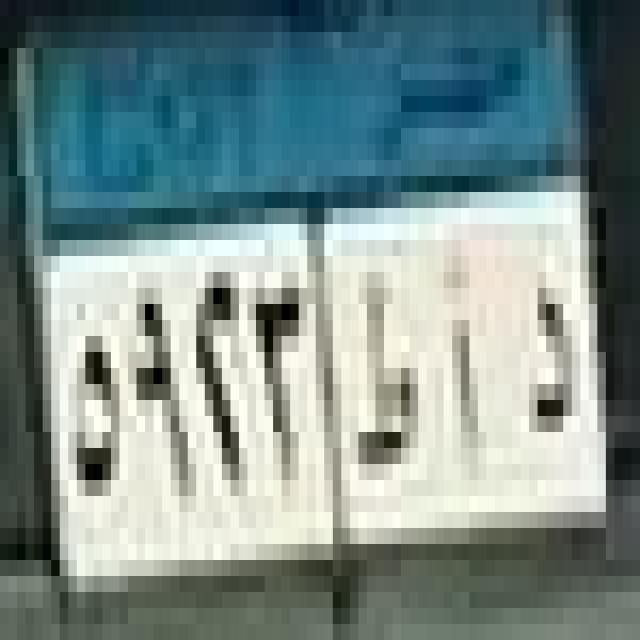2: (195, 246, 248, 488)
3: (246, 230, 312, 518)
5: (71, 312, 128, 498)
9: (134, 271, 194, 510)
Taa: (340, 254, 430, 490)
alef: (439, 224, 491, 486)
daal: (524, 268, 582, 449)
